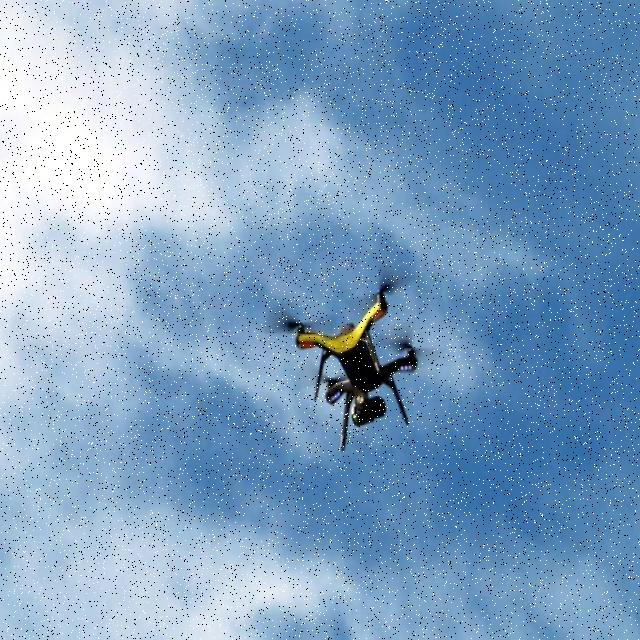UAV: (296, 287, 422, 453)
